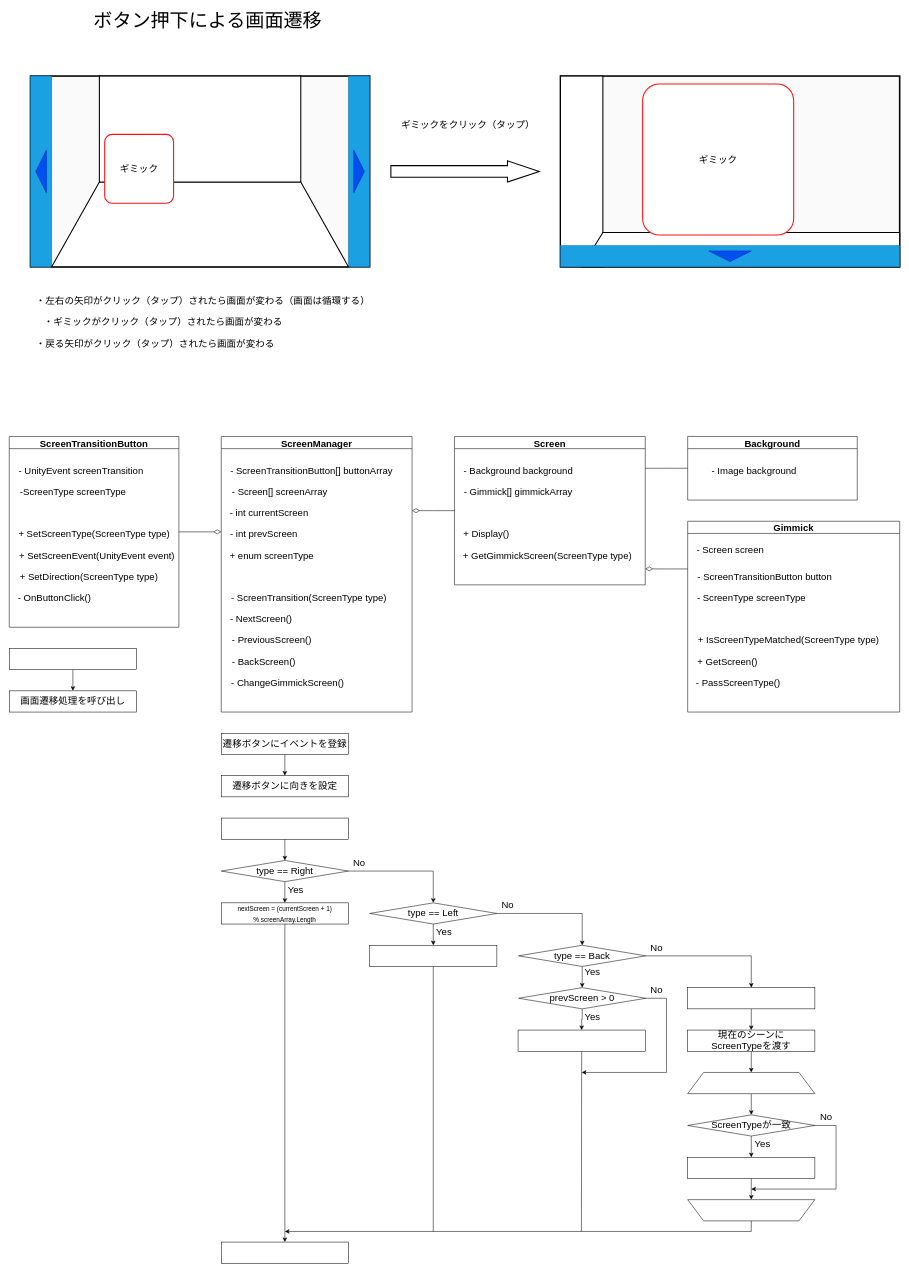
The diagram is 909 pixels wide and 1273 high, and some of its shapes have lost their labels. The shapes that lost their labels are listed below. From the top down, each one's centre as x and y in pixels, then its label:
At point (72, 659): "ボタン押下イベント発生".
At point (284, 828): "登録イベントの呼び出し".
At point (433, 955): "nextScreen = Mathf.Max(currentScreen - 1,screenArray.Length)".
At point (751, 998): "現在のスクリーンを prevScreenに保持".
At point (581, 1040): "ひとつ前のスクリーンを取得".
At point (751, 1083): "gimmickArray".
At point (751, 1167): "ギミックからScreenを取得".
At point (284, 1252): "遷移先の背景に変更".
